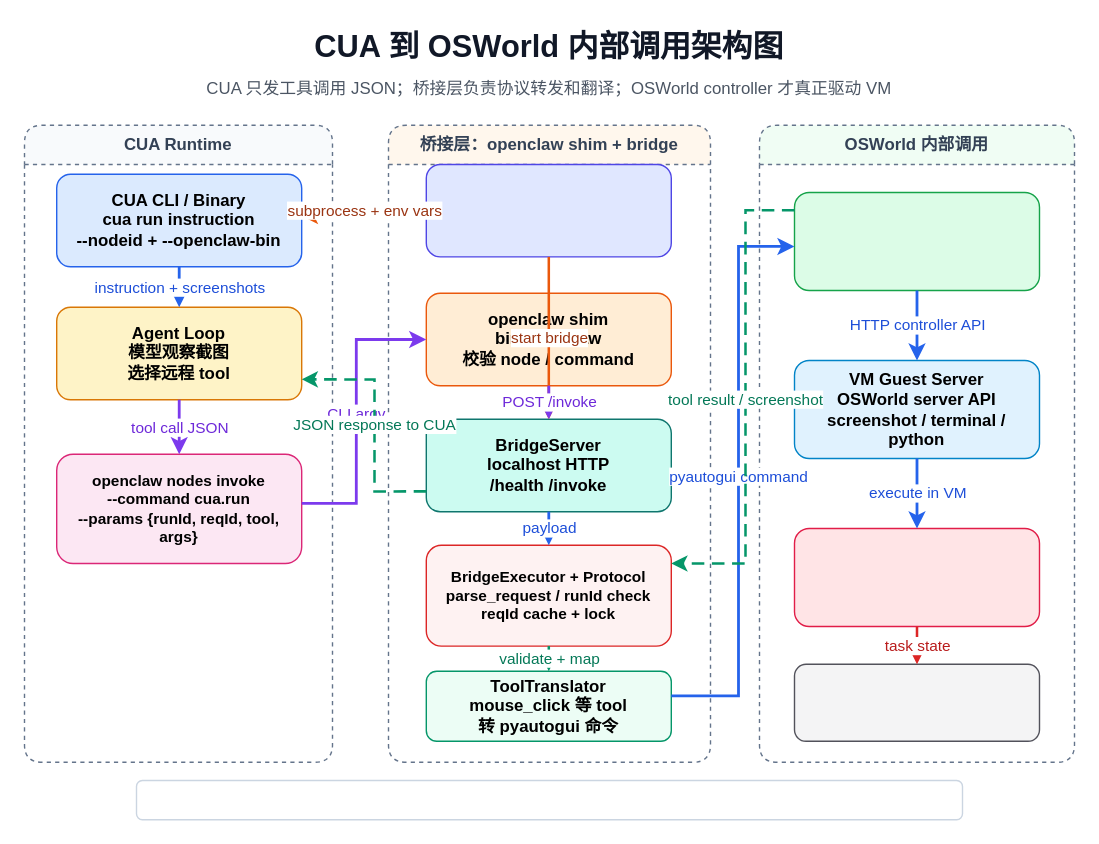
Image size: 1099x844. Some labels were removed from this diagram. The shapes that lost their labels are listed below. From the top down, each one's centre as x and y in pixels, then its label:
[548,210]: Launcher run_cua_blackbox() 启动 server + CUA 子进程
[916,240]: DesktopEnv.controller PythonController execute_python_command
[916,576]: 虚拟机桌面 pyautogui 执行动作 Chrome / Writer / Apps
[916,702]: Evaluator + Artifacts evaluate() / result.txt traj / recording / report
[548,799]: 蓝=主调用链 紫=CUA 工具调用 橙=启动/注入 绿虚线=工具响应 红=评测闭环
